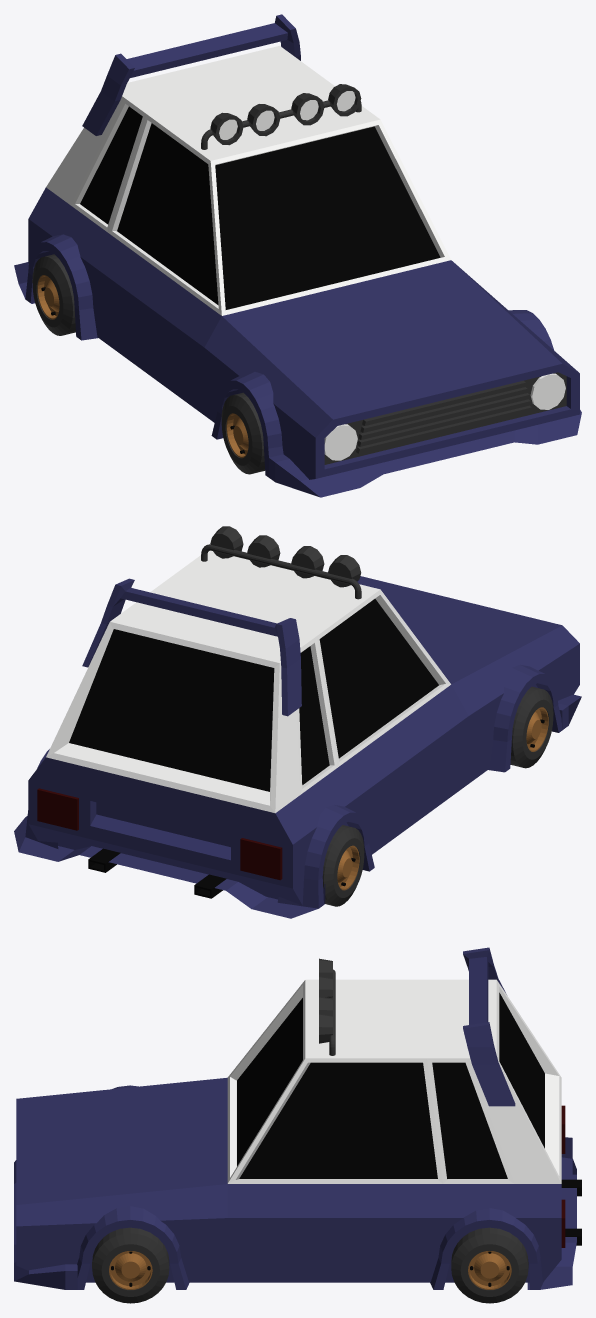
File: racecar.glb
The picture shows the model from 3 angles, top to bottom: view 1: azimuth 30°, elevation 25°; view 2: azimuth 150°, elevation 25°; view 3: azimuth 270°, elevation 25°; orthographic projection. The views are drawn at different scales.
Parts seen in each view (by area): view 1: body, front_wheel.001, rear_wheel.001; view 2: body, front_wheel.001, rear_wheel.001; view 3: body, rear_wheel, front_wheel.
Boxes of the visible parts, x1,y1,x2,y2 form: body: (14, 14, 581, 497); front_wheel.001: (221, 392, 264, 474); rear_wheel.001: (32, 254, 75, 335); body: (14, 526, 581, 918); front_wheel.001: (510, 686, 553, 768); rear_wheel.001: (322, 825, 364, 906); body: (14, 947, 581, 1289); rear_wheel: (451, 1227, 528, 1303); front_wheel: (92, 1227, 169, 1303).
Bounding box in the file's own units: 1.36 × 1.13 × 2.34.
Materials: 1 (1 with a texture image).
